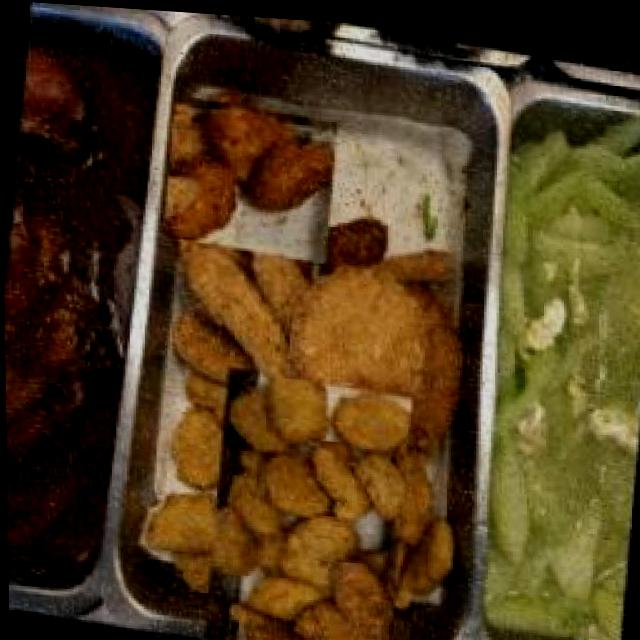chicken_nuggets: (176, 384, 437, 640)
triangle_hash_brown: (164, 87, 336, 265)
